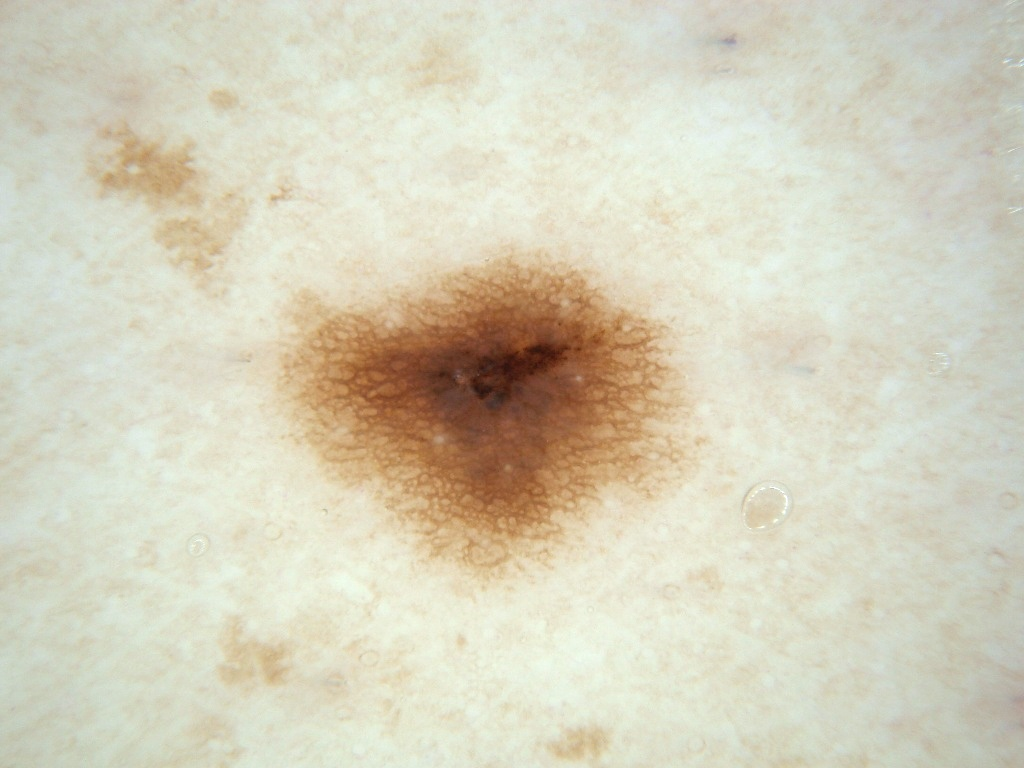Detected Lesion: (261, 240, 694, 593)
